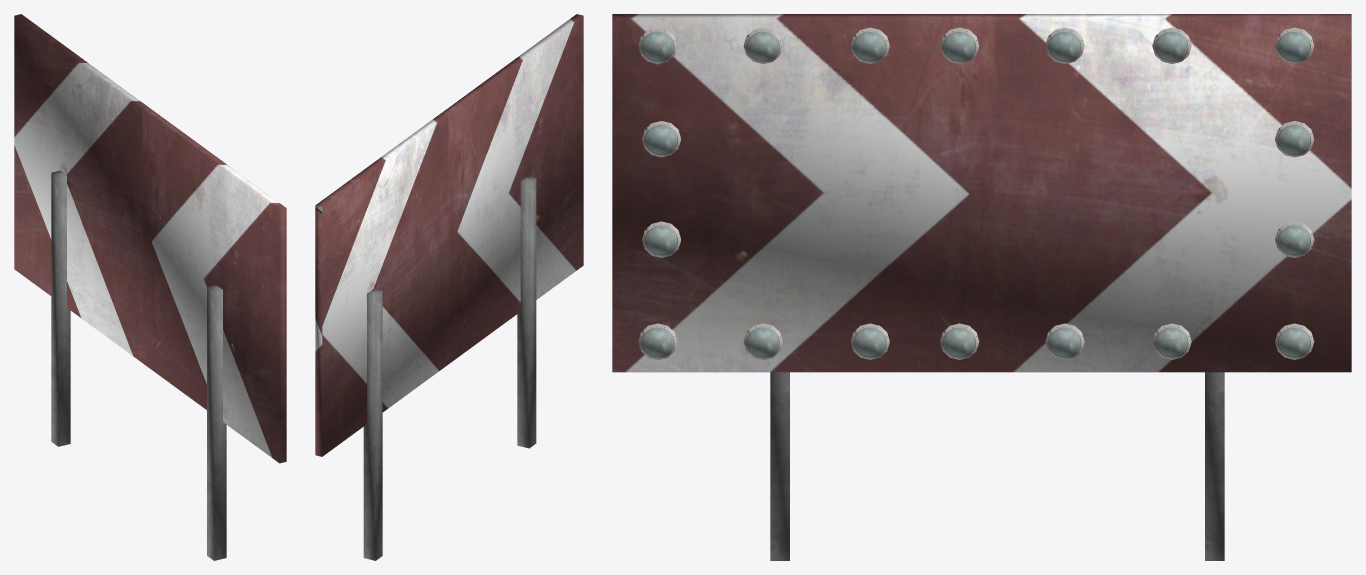
File: lighting_sign_narrow_tall_right_small.fbx
The picture shows the model from 3 angles, left to right: view 1: azimuth 30°, elevation 25°; view 2: azimuth 150°, elevation 25°; view 3: azimuth 270°, elevation 25°; orthographic projection. The views are drawn at different scales.
Visible parts, largest first — view 1: sign_narrow; view 2: sign_narrow; view 3: sign_narrow, lights.
Boxes of the visible parts, x1,y1,x2,y2 form: sign_narrow: [14, 14, 286, 560]; sign_narrow: [315, 14, 583, 560]; sign_narrow: [612, 14, 1351, 560]; lights: [638, 27, 1314, 359].
Size of the model in its own units: 1.22 by 26 by 32.
